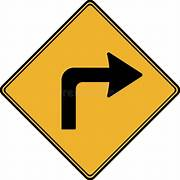right: (3, 1, 180, 180)
